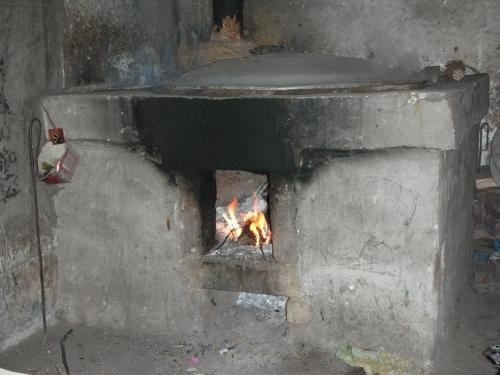fire: (217, 197, 272, 246)
